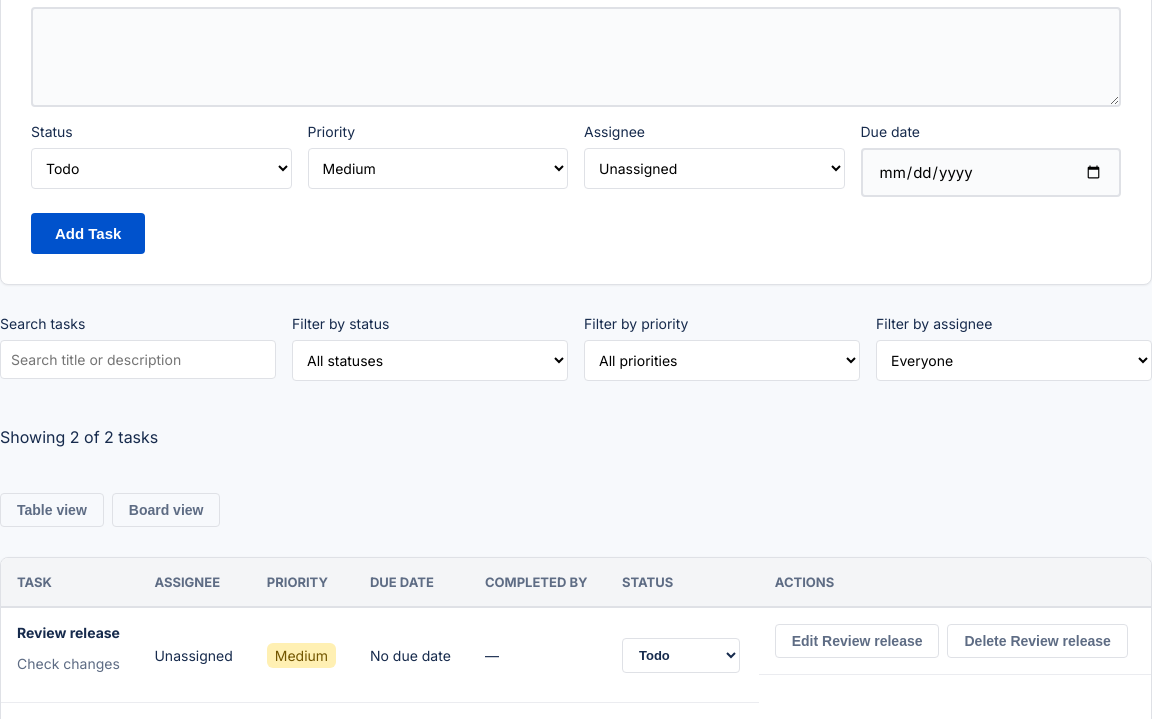
it: task permissions in the interface › filters tasks and opens the edit form with planning fields
This screenshot has width=1152, height=719.
(page scrolled)
Select "High" in the dropdown labelled "Filter by priority" at (722, 360), box [584,340,860,381]
(page scrolled)
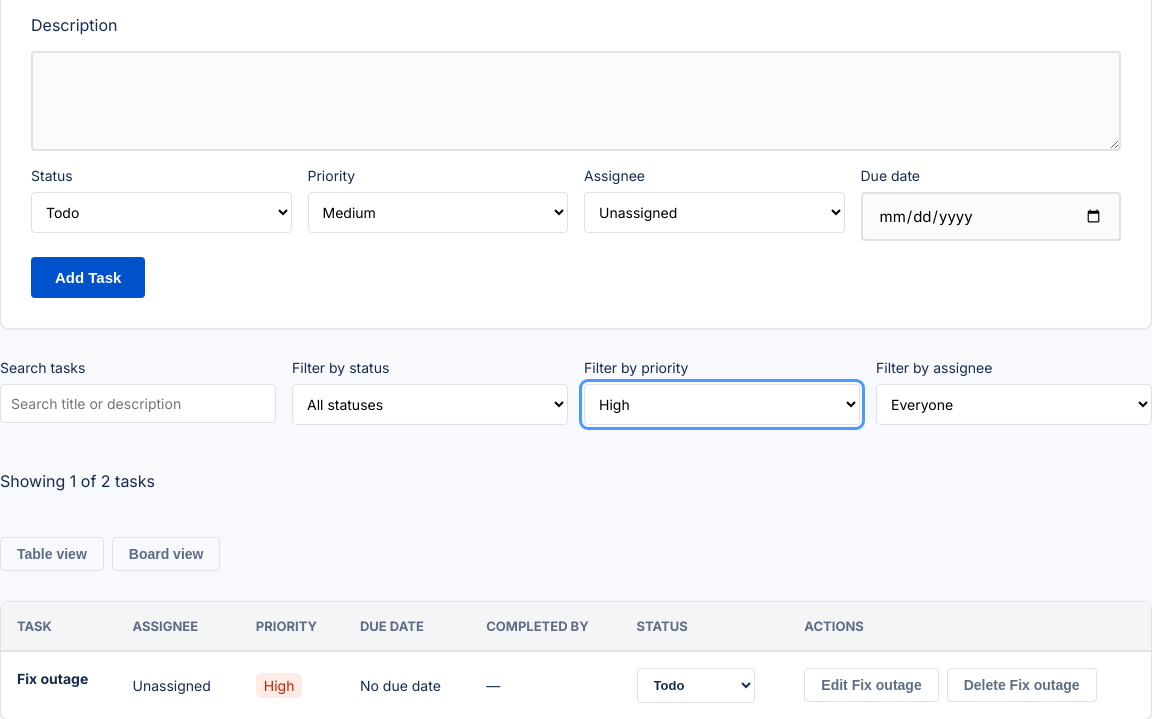
Expected: the text "Fix outage" is shown, [17,670,88,687]
Now the text "Review release" is gone
Click the button "Edit Fix outage" at (872, 685), box [804,668,939,702]
(page scrolled)
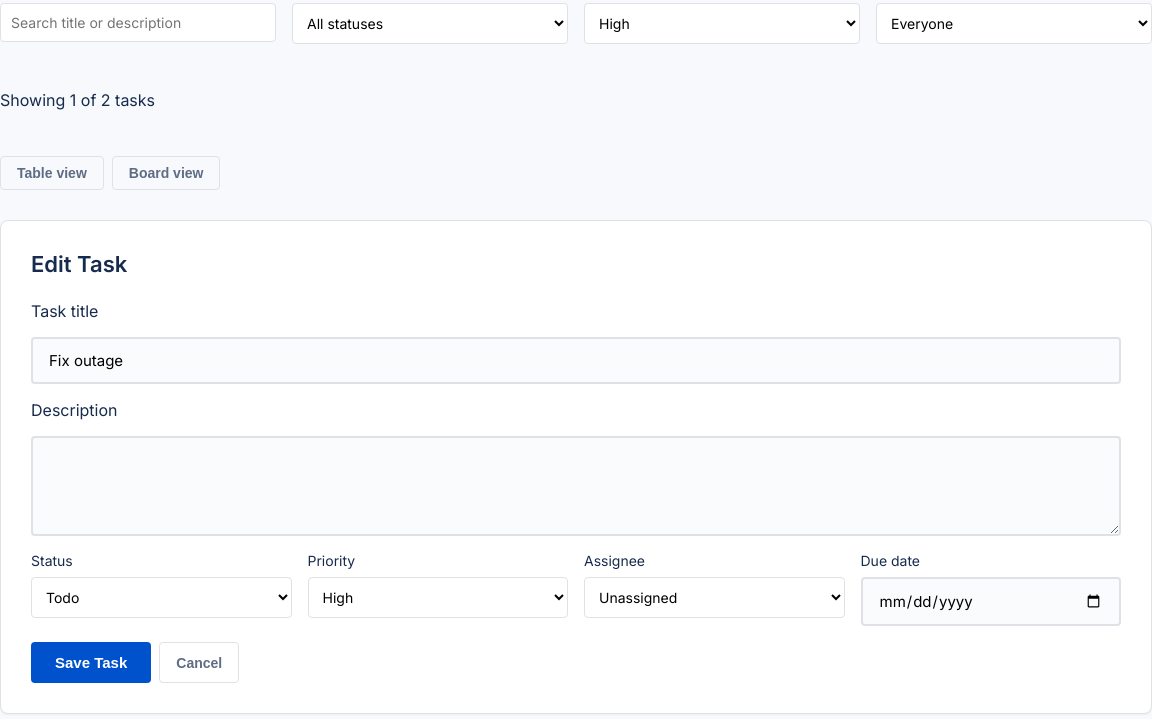
Now the element "Edit Task" is shown
Now the field showing "Fix outage" is shown, box [31,337,1121,384]
